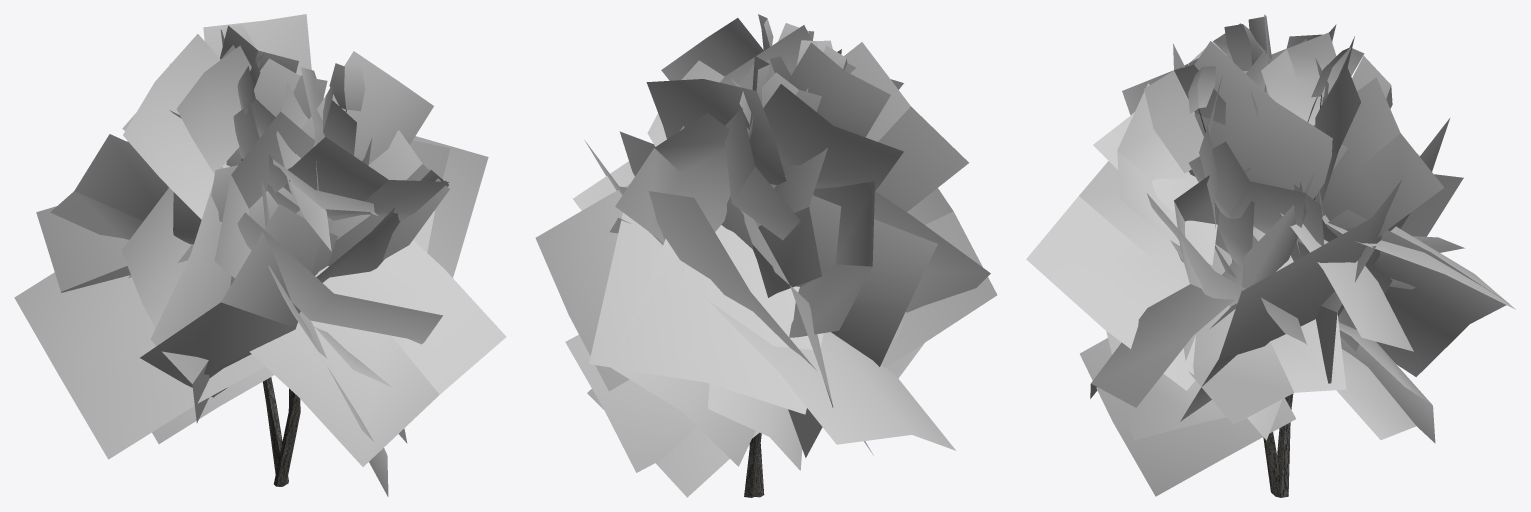
The model's file is tree_4.gltf.
The picture shows the model from 3 angles, left to right: view 1: azimuth 30°, elevation 25°; view 2: azimuth 150°, elevation 25°; view 3: azimuth 270°, elevation 25°; orthographic projection.
Parts seen in each view (by area): view 1: Tree-01-2; view 2: Tree-01-2; view 3: Tree-01-2.
Boxes of the visible parts, box(x1,y1,x2,y2) form: Tree-01-2: box(14, 14, 506, 496); Tree-01-2: box(535, 14, 997, 497); Tree-01-2: box(1026, 14, 1515, 497).
Bounding box in the file's own units: 6.55 × 7.5 × 7.32.
